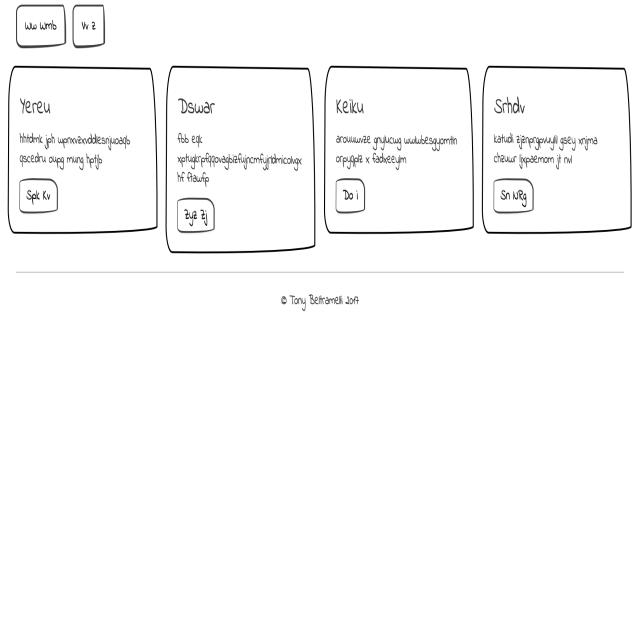Button: (490, 175, 538, 218), (14, 176, 62, 214), (175, 197, 220, 237), (332, 178, 372, 216)
Card: (483, 49, 633, 248), (166, 64, 316, 256), (326, 59, 474, 242), (5, 67, 158, 237)
Footer: (0, 262, 638, 640)
Heading 6: (177, 91, 218, 121), (332, 90, 367, 124), (493, 87, 528, 121), (16, 89, 54, 120)
Navigation Bar: (9, 0, 135, 54)
Paragraph: (171, 130, 305, 190), (17, 127, 133, 174), (336, 129, 462, 172), (491, 131, 600, 169)
